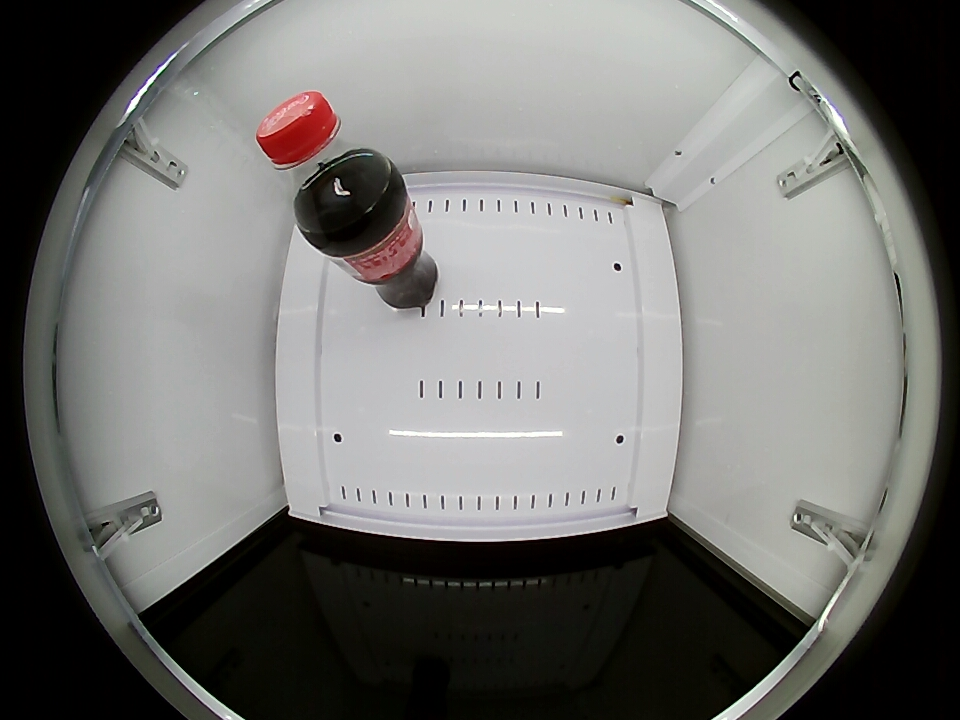kele-b: (257, 91, 391, 226)
